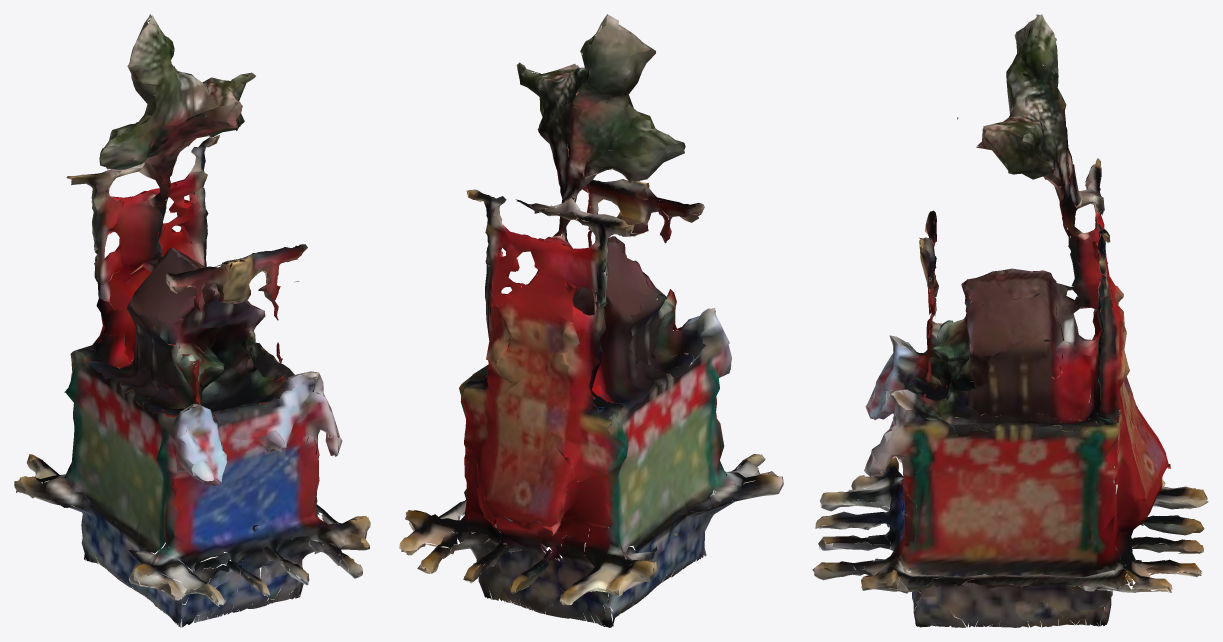
The model's file is 霰天神山.glb.
3 renders of one model, left to right at view 1: azimuth 30°, elevation 25°; view 2: azimuth 150°, elevation 25°; view 3: azimuth 270°, elevation 25°, orthographic. The views are drawn at different scales.
Parts seen in each view (by area): view 1: mesh; view 2: mesh; view 3: mesh.
Part boxes in pixels (x1,y1,x2,y2): mesh: (14,14,370,627); mesh: (399,14,783,627); mesh: (812,14,1208,627).
Bounding box in the file's own units: 4.02 × 8.81 × 5.56.
1 material, 1 textured.
